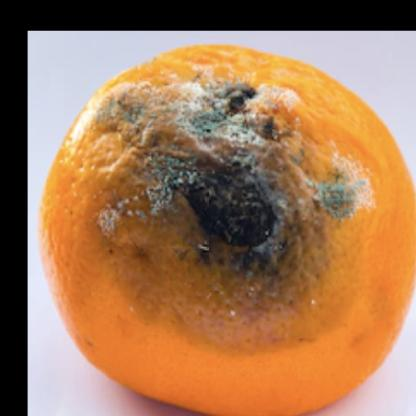rotten: (42, 46, 416, 416)
